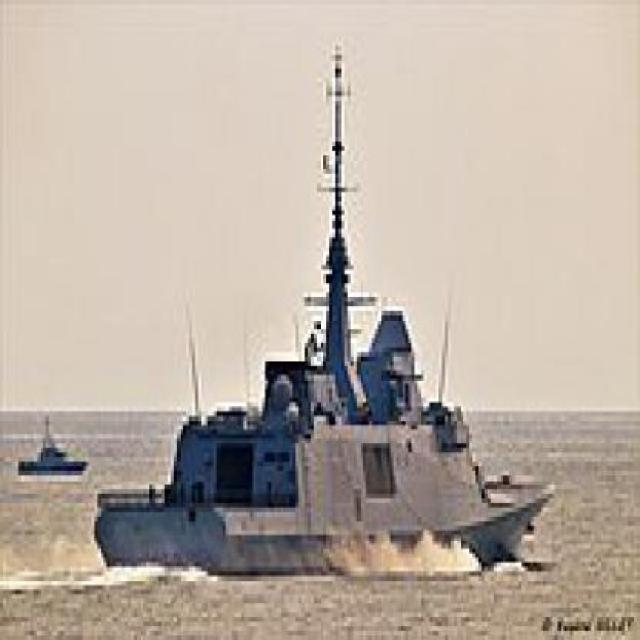warship2: (56, 46, 583, 591)
